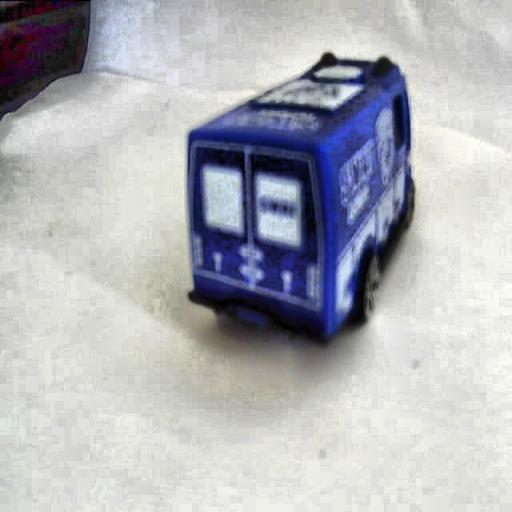police car: (182, 37, 416, 344)
